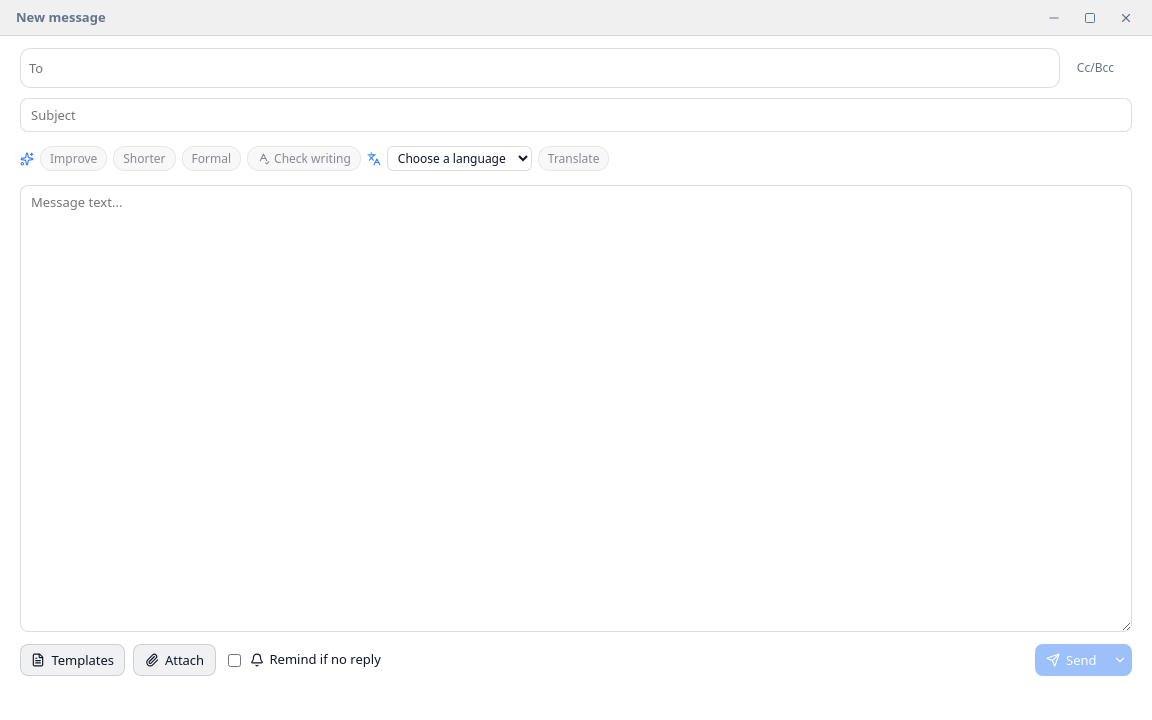
Test: Compose §3.3 B6 — a translate pick made before the draft id lands survives it › keeps the picked language and the in-flight translation across the draft id landing
The width and height of the screenshot is (1152, 720).
Check: the dropdown with test id "compose-translate-target" is shown, box [387,146,532,171]
Type "my own text" into the text box with test id "compose-text".
click(576, 409); type("my own text")  # box [20,185,1132,632]
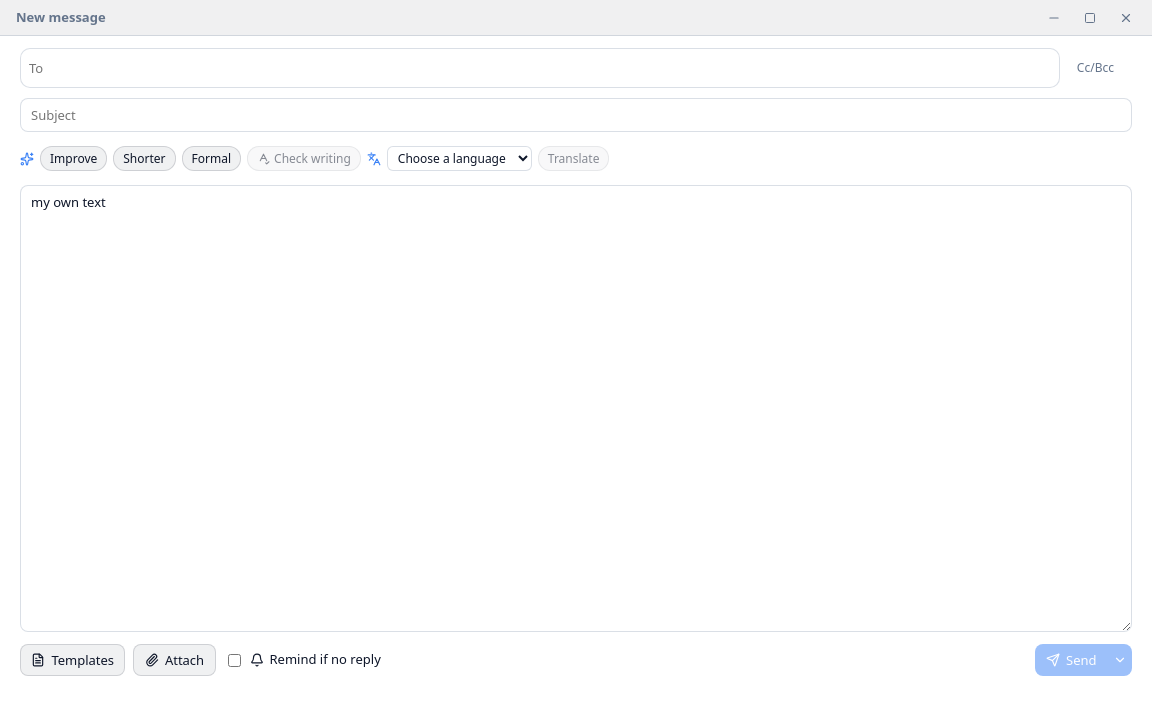
Select "French" in the dropdown with test id "compose-translate-target" at (459, 158), box [387,146,532,171]
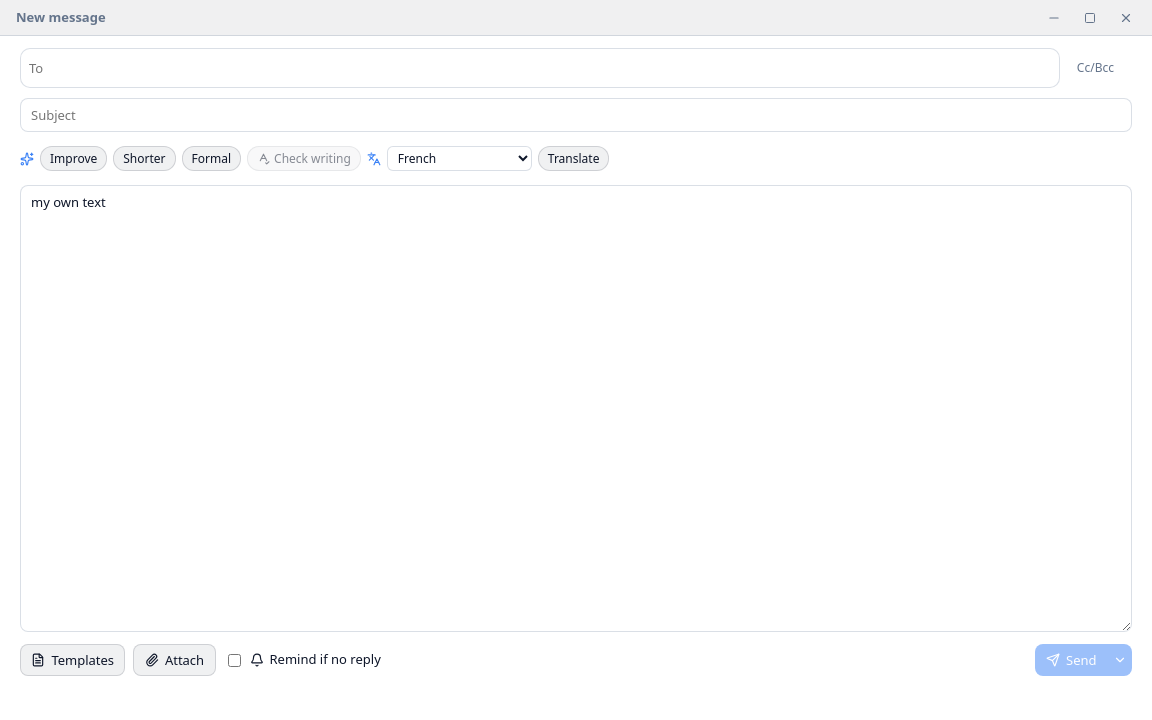
...and the user pays for a translation right there.
Click the button with test id "compose-translate-run".
click(574, 158)  # box [538,146,609,171]
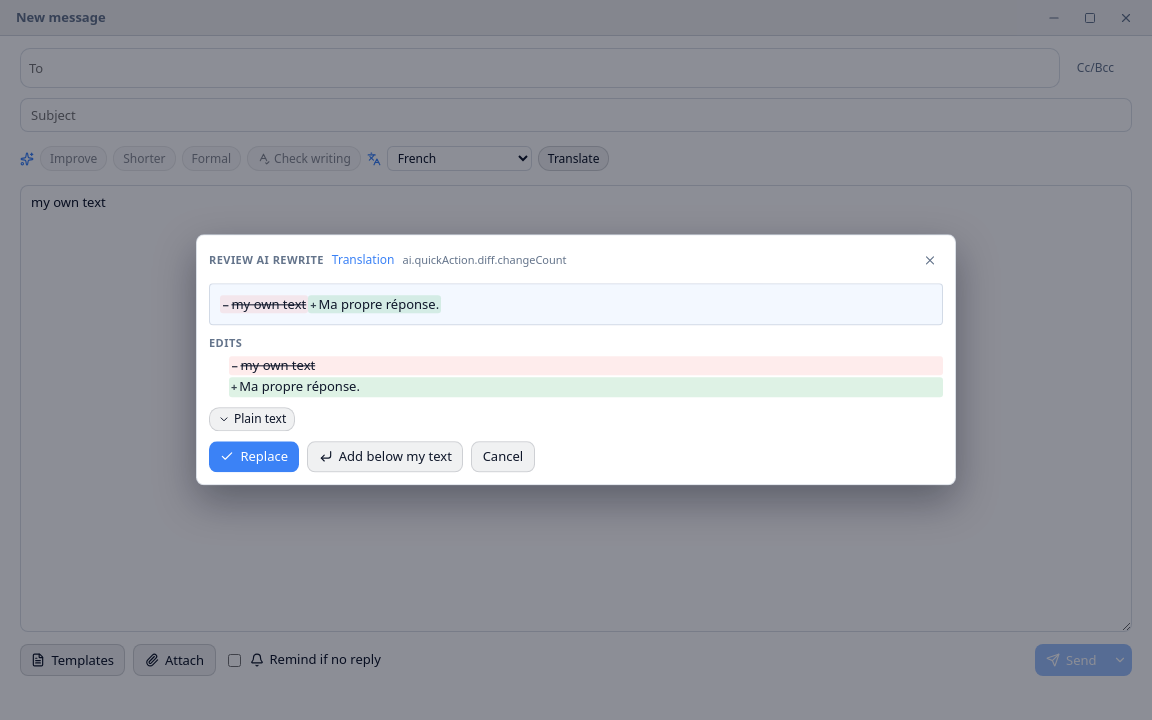
Check: the dialog with test id "quick-action-diff" is shown, box [196,234,956,486]
